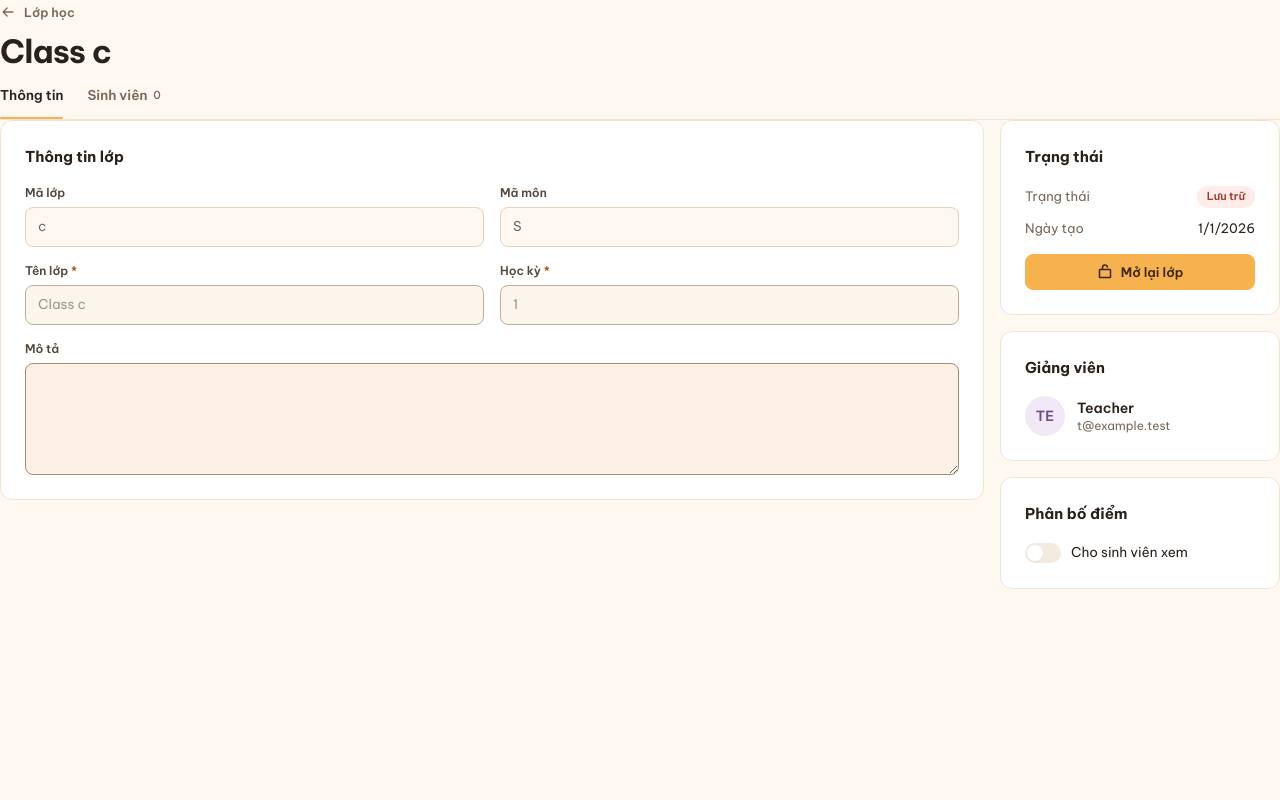
Test: keeps string and object reopen conflicts visible after refreshing the class
This screenshot has width=1280, height=800.
Click the button with test id "class-state-open" at (1140,272), box x1=1025 y1=254 x2=1255 y2=290
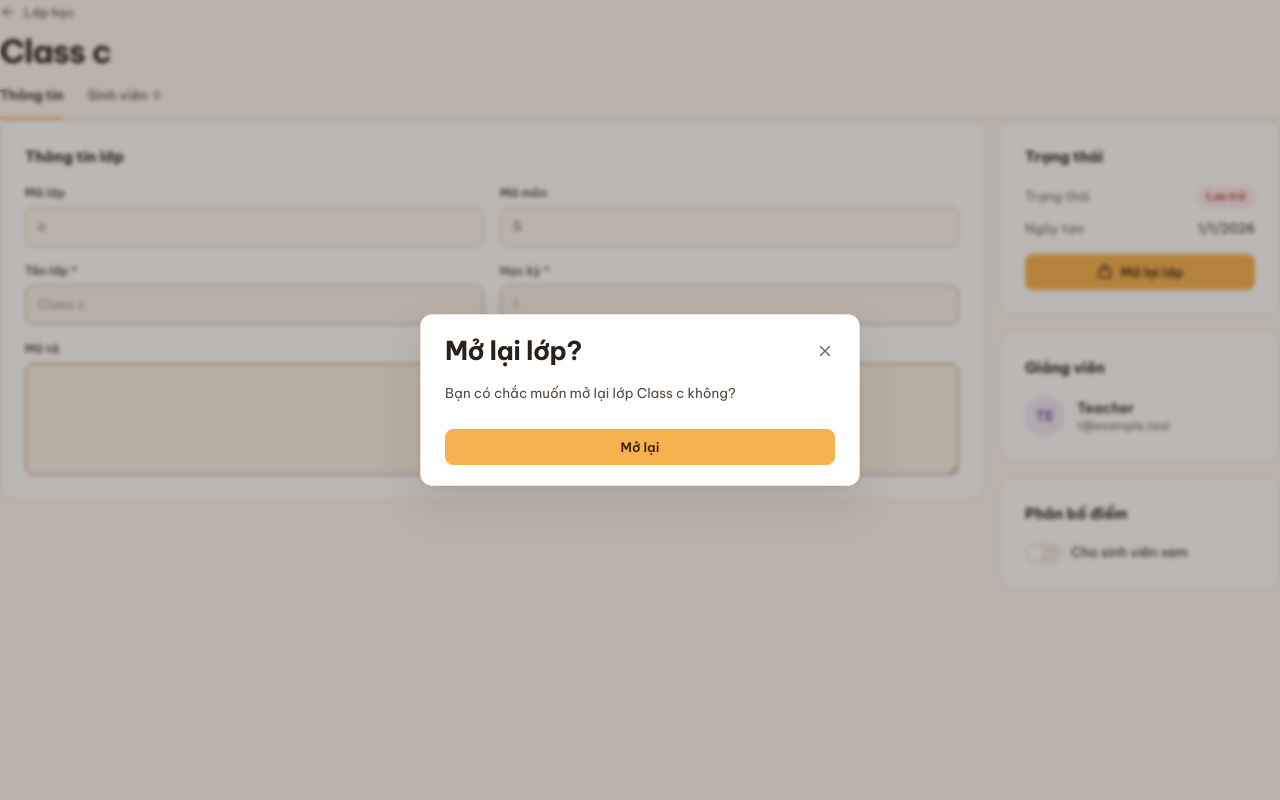
Click the button with test id "class-state-confirm" at (640,447), box x1=445 y1=429 x2=835 y2=465
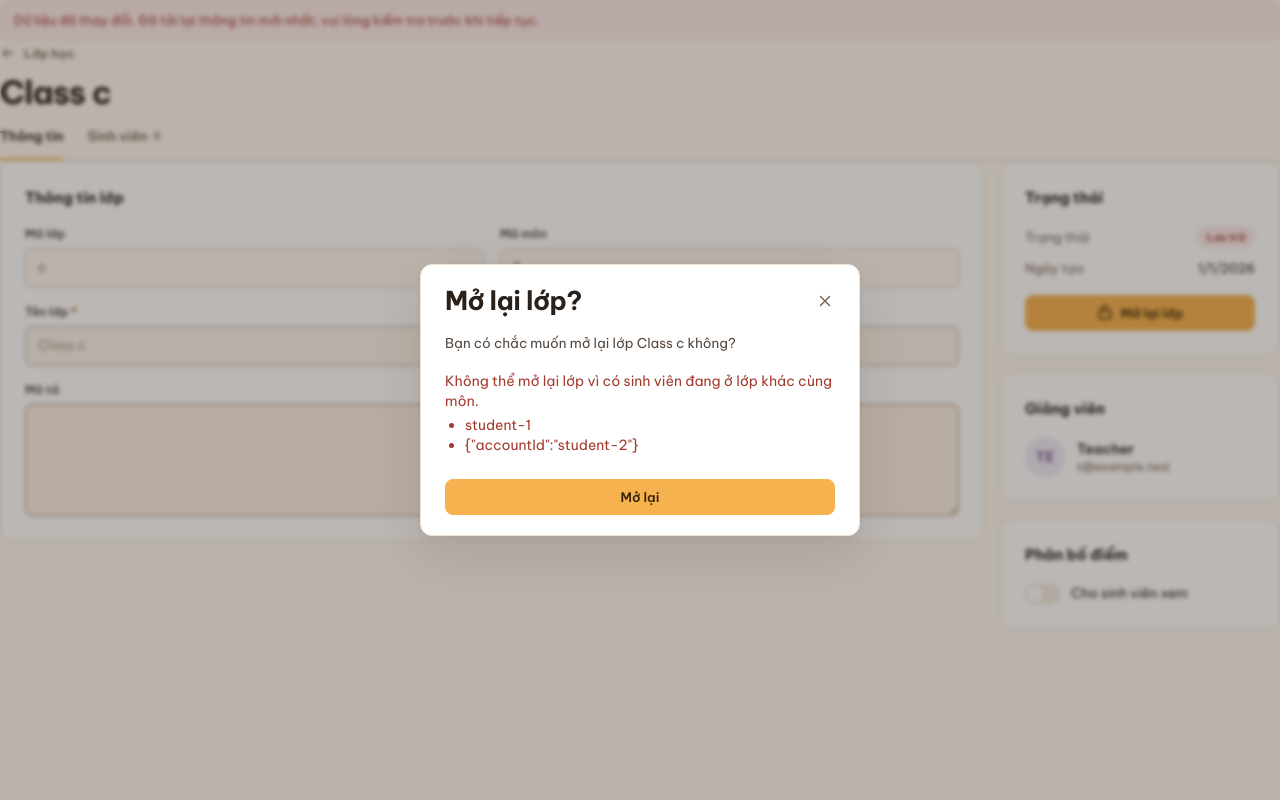
Expected: the list item "student-1" is shown, x1=465 y1=416 x2=531 y2=434
Expected: the list item "{\"accountId\":\"student-2\"}" is shown, x1=465 y1=436 x2=638 y2=454
Expected: the message with test id "class-mutation-conflict" shows "Dữ liệu đã thay đổi", x1=14 y1=12 x2=540 y2=28
